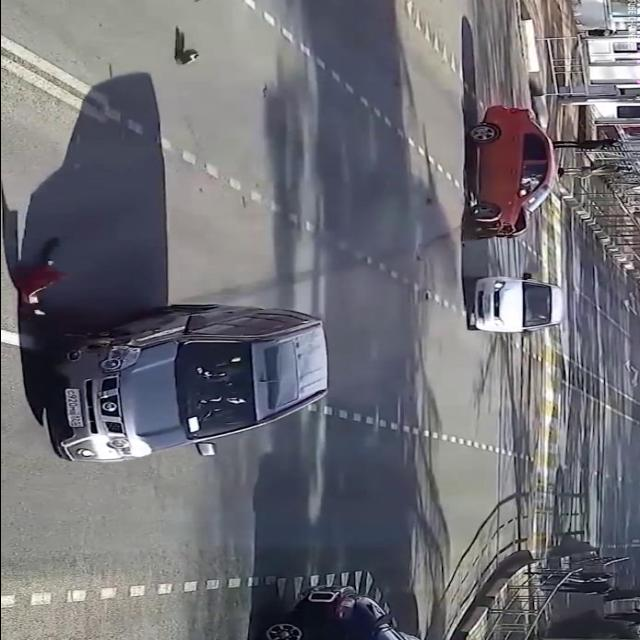accident: (0, 234, 355, 473), (447, 99, 569, 257)
